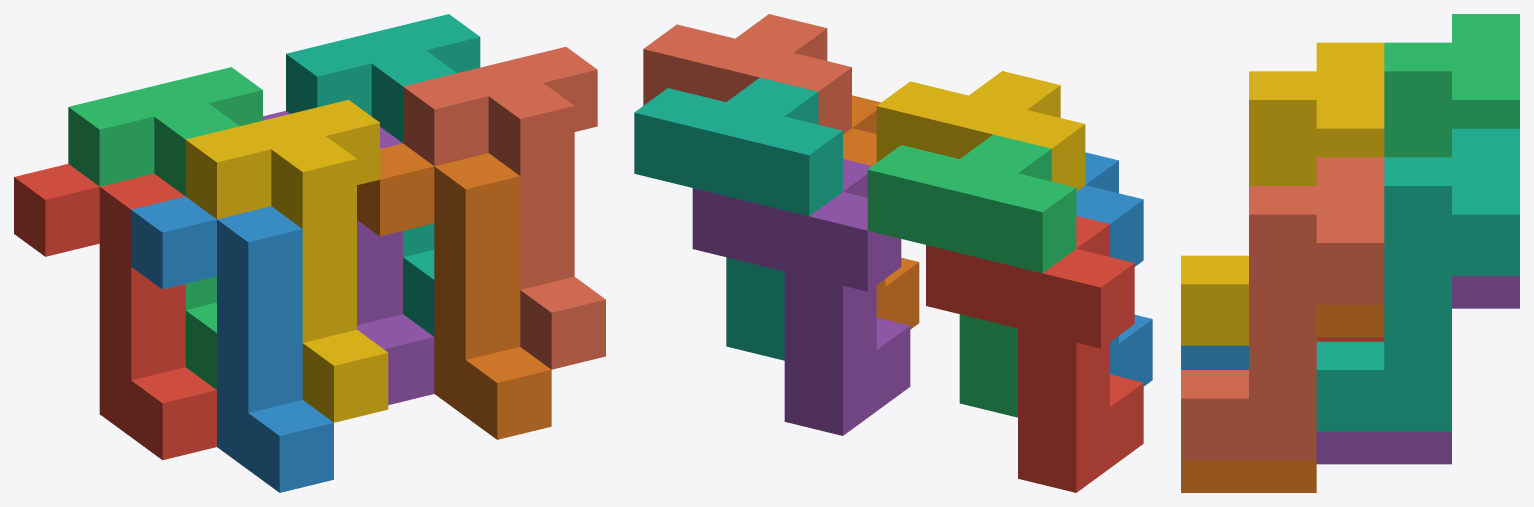
Rendered from tiling.obj.
3 views of the same model, side by side, from view 1: azimuth 30°, elevation 25°; view 2: azimuth 150°, elevation 25°; view 3: azimuth 270°, elevation 25° (orthographic). The views are drawn at different scales.
Parts seen in each view (by area): view 1: copy_1_domain_2, copy_1_domain_4, copy_1_domain_8, copy_1_domain_6, copy_1_domain_1, copy_1_domain_3, copy_1_domain_7, copy_1_domain_5; view 2: copy_1_domain_1, copy_1_domain_5, copy_1_domain_3, copy_1_domain_7, copy_1_domain_4, copy_1_domain_8, copy_1_domain_2, copy_1_domain_6; view 3: copy_1_domain_8, copy_1_domain_7, copy_1_domain_4, copy_1_domain_3, copy_1_domain_5, copy_1_domain_6, copy_1_domain_2.
Boxes of the visible parts, x1,y1,x2,y2 form: copy_1_domain_2: (131,196,333,492); copy_1_domain_4: (185,100,388,422); copy_1_domain_8: (403,47,605,369); copy_1_domain_6: (357,143,551,439); copy_1_domain_1: (14,164,216,460); copy_1_domain_3: (68,67,262,389); copy_1_domain_7: (286,14,480,336); copy_1_domain_5: (263,110,434,404); copy_1_domain_1: (926,216,1143,492); copy_1_domain_5: (692,159,910,435); copy_1_domain_3: (867,134,1076,417); copy_1_domain_7: (634,77,842,360); copy_1_domain_4: (876,71,1085,191); copy_1_domain_8: (643,14,851,134); copy_1_domain_2: (1076,152,1152,386); copy_1_domain_6: (843,95,919,329); copy_1_domain_8: (1181,157,1384,460); copy_1_domain_7: (1316,128,1519,431); copy_1_domain_4: (1181,42,1384,345); copy_1_domain_3: (1384,14,1519,157); copy_1_domain_5: (1316,276,1519,464); copy_1_domain_6: (1181,304,1384,492); copy_1_domain_2: (1181,345,1248,369).
Bounding box in the file's own units: 9 × 5 × 5.
